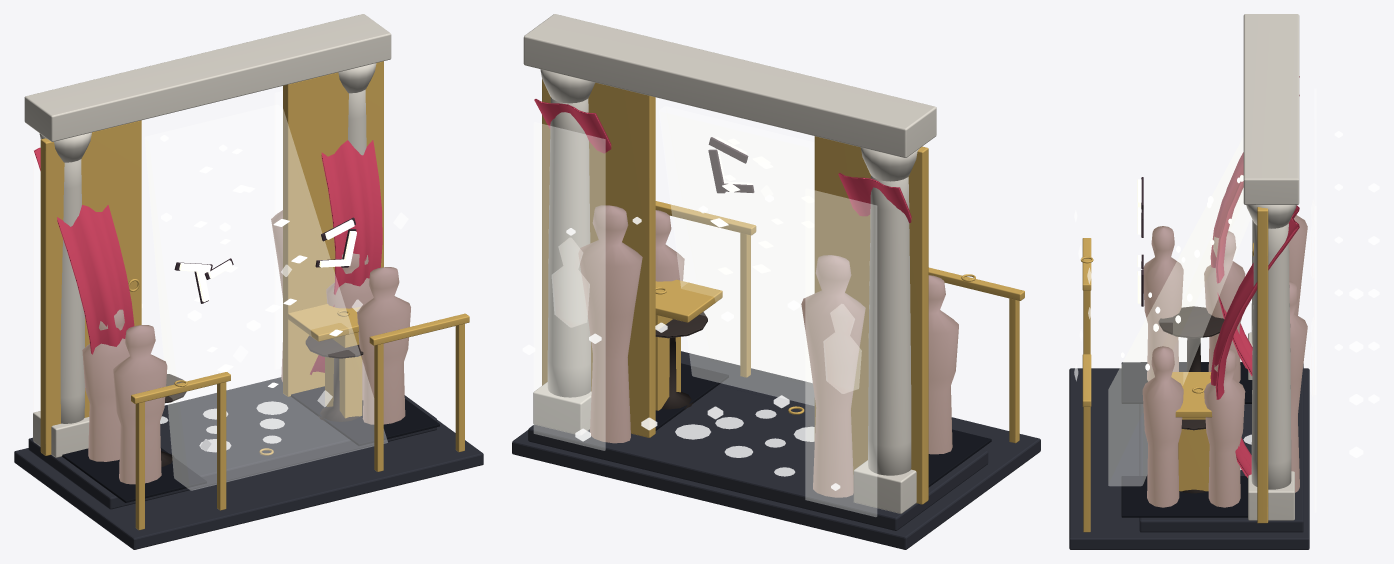
File: webtoon-wind-drape-rofan-velvet-65pct-v25.glb
3 views of the same model, side by side, from view 1: azimuth 30°, elevation 25°; view 2: azimuth 150°, elevation 25°; view 3: azimuth 270°, elevation 25° (orthographic). The views are drawn at different scales.
Parts seen in each view (by area): view 1: Volumetric_V25Beat2_Velvet_GodRaySlit, Articulated_V25Beat2_Velvet_DoorsAndIkRig, V25Beat2_Velvet_DatumDeck, V25Beat2_Velvet_PortalColonnade, DatumCrowd_V25Beat2_Velvet_Silhouettes, WindDrape_V25Beat2_Velvet_CatenaryPair, ShadowDrift_V25Beat2_Velvet_UmbraMask, HalfMirror_V25Beat2_Velvet_FresnelReflection, DatumCrowd_V25Beat2_Velvet_Tables074m, ZDepthSFX_V25Beat2_Velvet_GlyphCore, Weather_V25Beat2_Velvet_IndoorWetRipples, Atmospheric_V25Beat2_Velvet_MidMotes (+1 smaller); view 2: V25Beat2_Velvet_PortalColonnade, HalfMirror_V25Beat2_Velvet_FresnelReflection, Articulated_V25Beat2_Velvet_DoorsAndIkRig, Volumetric_V25Beat2_Velvet_GodRaySlit, V25Beat2_Velvet_DatumDeck, DatumCrowd_V25Beat2_Velvet_Silhouettes, ShadowDrift_V25Beat2_Velvet_UmbraMask, WindDrape_V25Beat2_Velvet_CatenaryPair, Weather_V25Beat2_Velvet_IndoorWetRipples, DatumCrowd_V25Beat2_Velvet_Tables074m, Weather_V25Beat2_Velvet_ExteriorOccluded, ZDepthSFX_V25Beat2_Velvet_ShadowPlate (+1 smaller); view 3: V25Beat2_Velvet_PortalColonnade, DatumCrowd_V25Beat2_Velvet_Silhouettes, V25Beat2_Velvet_DatumDeck, Volumetric_V25Beat2_Velvet_GodRaySlit, Articulated_V25Beat2_Velvet_DoorsAndIkRig, WindDrape_V25Beat2_Velvet_CatenaryPair, ShadowDrift_V25Beat2_Velvet_UmbraMask, DatumCrowd_V25Beat2_Velvet_Tables074m, HalfMirror_V25Beat2_Velvet_FresnelReflection, Weather_V25Beat2_Velvet_ExteriorOccluded, ZDepthSFX_V25Beat2_Velvet_GlyphCore, Atmospheric_V25Beat2_Velvet_MidMotes.
Boxes of the visible parts, left/top/right/bottom form: Volumetric_V25Beat2_Velvet_GodRaySlit: left=145, top=105, right=387, bottom=490; Articulated_V25Beat2_Velvet_DoorsAndIkRig: left=40, top=61, right=469, bottom=530; V25Beat2_Velvet_DatumDeck: left=14, top=377, right=483, bottom=549; V25Beat2_Velvet_PortalColonnade: left=24, top=14, right=391, bottom=457; DatumCrowd_V25Beat2_Velvet_Silhouettes: left=82, top=210, right=410, bottom=484; WindDrape_V25Beat2_Velvet_CatenaryPair: left=34, top=140, right=382, bottom=374; ShadowDrift_V25Beat2_Velvet_UmbraMask: left=62, top=386, right=439, bottom=502; HalfMirror_V25Beat2_Velvet_FresnelReflection: left=33, top=91, right=282, bottom=412; DatumCrowd_V25Beat2_Velvet_Tables074m: left=161, top=335, right=363, bottom=466; ZDepthSFX_V25Beat2_Velvet_GlyphCore: left=179, top=219, right=356, bottom=302; Weather_V25Beat2_Velvet_IndoorWetRipples: left=160, top=401, right=288, bottom=452; Atmospheric_V25Beat2_Velvet_MidMotes: left=194, top=148, right=342, bottom=387; V25Beat2_Velvet_PortalColonnade: left=523, top=14, right=936, bottom=513; HalfMirror_V25Beat2_Velvet_FresnelReflection: left=534, top=122, right=876, bottom=516; Articulated_V25Beat2_Velvet_DoorsAndIkRig: left=542, top=79, right=1024, bottom=504; Volumetric_V25Beat2_Velvet_GodRaySlit: left=659, top=106, right=814, bottom=405; V25Beat2_Velvet_DatumDeck: left=512, top=351, right=1040, bottom=549; DatumCrowd_V25Beat2_Velvet_Silhouettes: left=578, top=205, right=958, bottom=497; ShadowDrift_V25Beat2_Velvet_UmbraMask: left=655, top=363, right=991, bottom=487; WindDrape_V25Beat2_Velvet_CatenaryPair: left=534, top=99, right=911, bottom=223; Weather_V25Beat2_Velvet_IndoorWetRipples: left=675, top=409, right=814, bottom=476; DatumCrowd_V25Beat2_Velvet_Tables074m: left=655, top=312, right=707, bottom=409; Weather_V25Beat2_Velvet_ExteriorOccluded: left=522, top=194, right=840, bottom=490; ZDepthSFX_V25Beat2_Velvet_ShadowPlate: left=708, top=137, right=754, bottom=193; V25Beat2_Velvet_PortalColonnade: left=1243, top=14, right=1299, bottom=520; DatumCrowd_V25Beat2_Velvet_Silhouettes: left=1142, top=215, right=1307, bottom=507; V25Beat2_Velvet_DatumDeck: left=1069, top=362, right=1309, bottom=549; Volumetric_V25Beat2_Velvet_GodRaySlit: left=1108, top=137, right=1250, bottom=485; Articulated_V25Beat2_Velvet_DoorsAndIkRig: left=1080, top=207, right=1268, bottom=532; WindDrape_V25Beat2_Velvet_CatenaryPair: left=1210, top=76, right=1299, bottom=477; ShadowDrift_V25Beat2_Velvet_UmbraMask: left=1121, top=362, right=1252, bottom=517; DatumCrowd_V25Beat2_Velvet_Tables074m: left=1158, top=306, right=1224, bottom=493; HalfMirror_V25Beat2_Velvet_FresnelReflection: left=1310, top=89, right=1316, bottom=512; Weather_V25Beat2_Velvet_ExteriorOccluded: left=1334, top=131, right=1379, bottom=457; ZDepthSFX_V25Beat2_Velvet_GlyphCore: left=1137, top=179, right=1141, bottom=303; Atmospheric_V25Beat2_Velvet_MidMotes: left=1121, top=175, right=1243, bottom=370.
Bounding box in the file's own units: 2.76 × 2.78 × 2.12.
